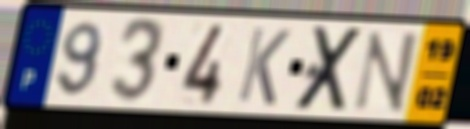3: (108, 15, 167, 107)
4: (177, 21, 226, 108)
9: (52, 19, 110, 98)
K: (234, 24, 294, 109)
N: (349, 29, 422, 115)
X: (291, 24, 369, 113)
